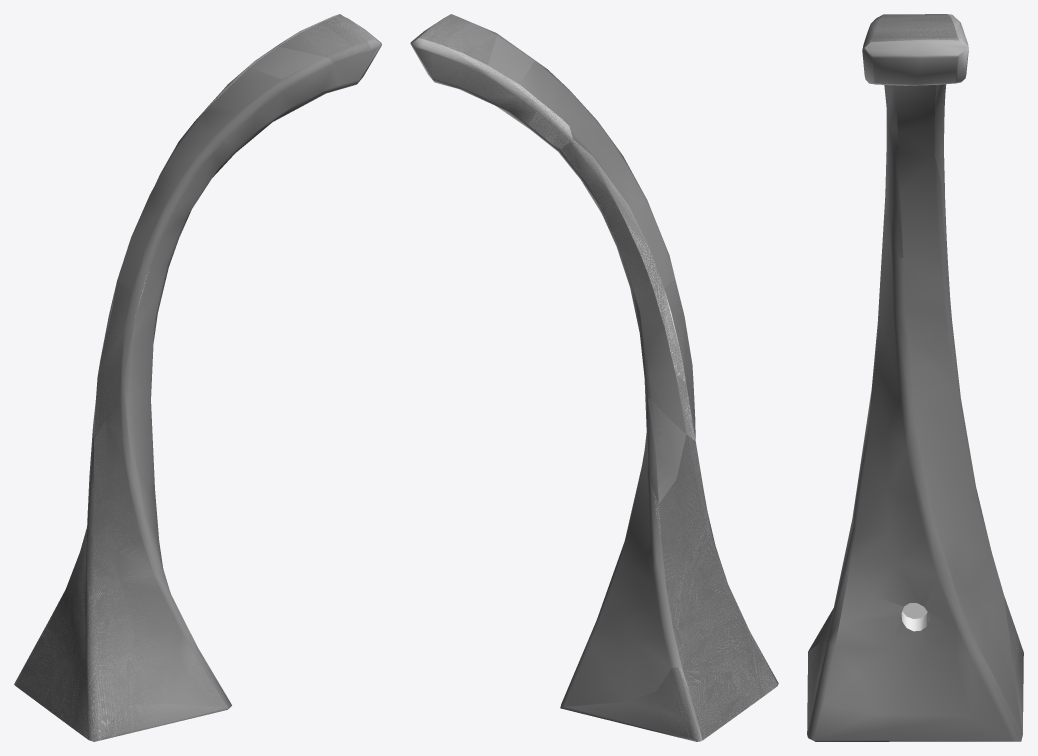
File: original-12.obj
The picture shows the model from 3 angles, left to right: view 1: azimuth 30°, elevation 25°; view 2: azimuth 150°, elevation 25°; view 3: azimuth 270°, elevation 25°; orthographic projection. The views are drawn at different scales.
Visible parts, largest first — view 1: mesh9/mesh9-geometry#mesh9-geometry; view 2: mesh9/mesh9-geometry#mesh9-geometry; view 3: mesh9/mesh9-geometry#mesh9-geometry.
Part boxes in pixels (left/top/right/bottom): mesh9/mesh9-geometry#mesh9-geometry: left=14, top=14, right=381, bottom=741; mesh9/mesh9-geometry#mesh9-geometry: left=410, top=14, right=778, bottom=741; mesh9/mesh9-geometry#mesh9-geometry: left=807, top=14, right=1023, bottom=741.
Bounding box in the file's own units: 0.4793 × 0.8924 × 0.2169.
